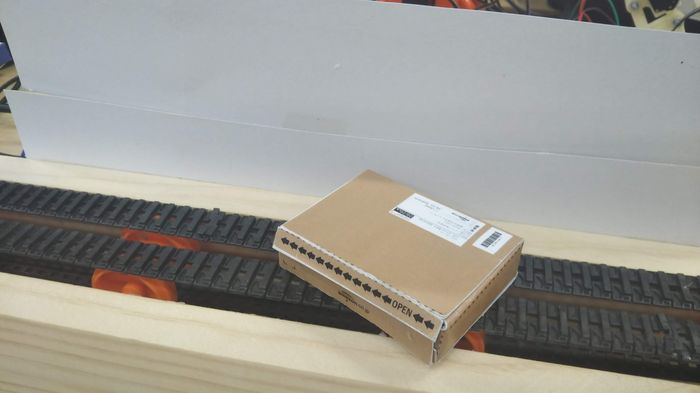box2: (266, 162, 525, 366)
